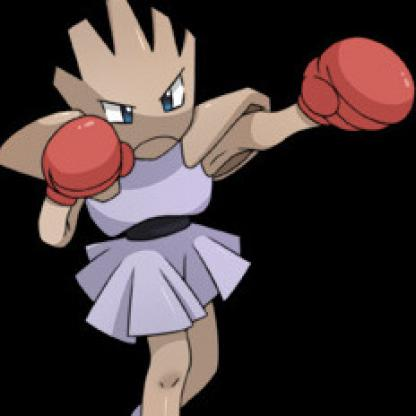Hitmonchan: (6, 2, 402, 416)
